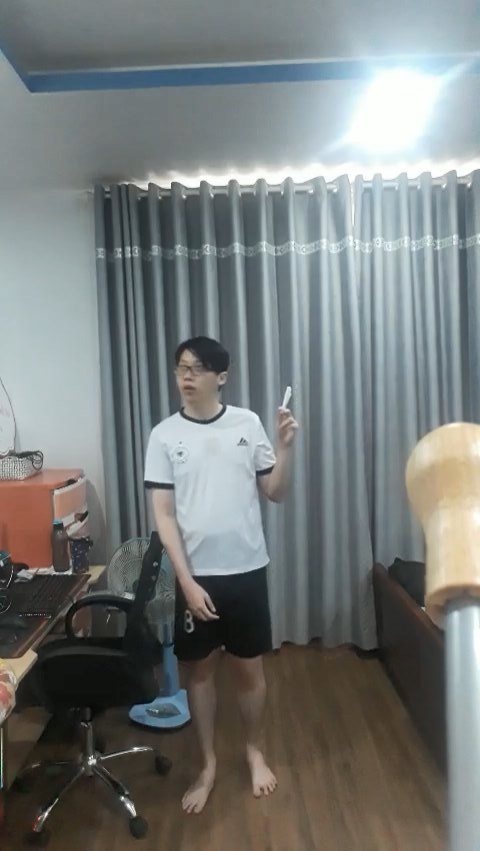cigarette: (280, 386, 294, 408)
person: (141, 332, 300, 825)
